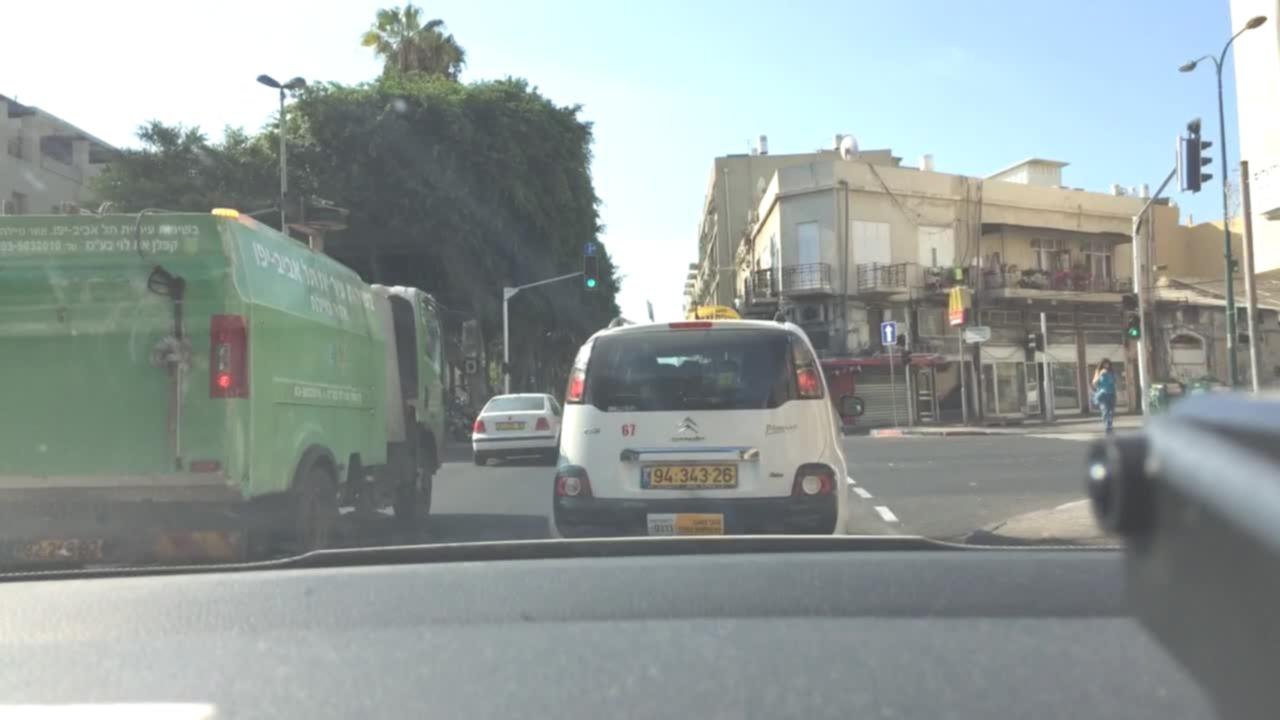Citroen: (669, 411, 706, 444)
